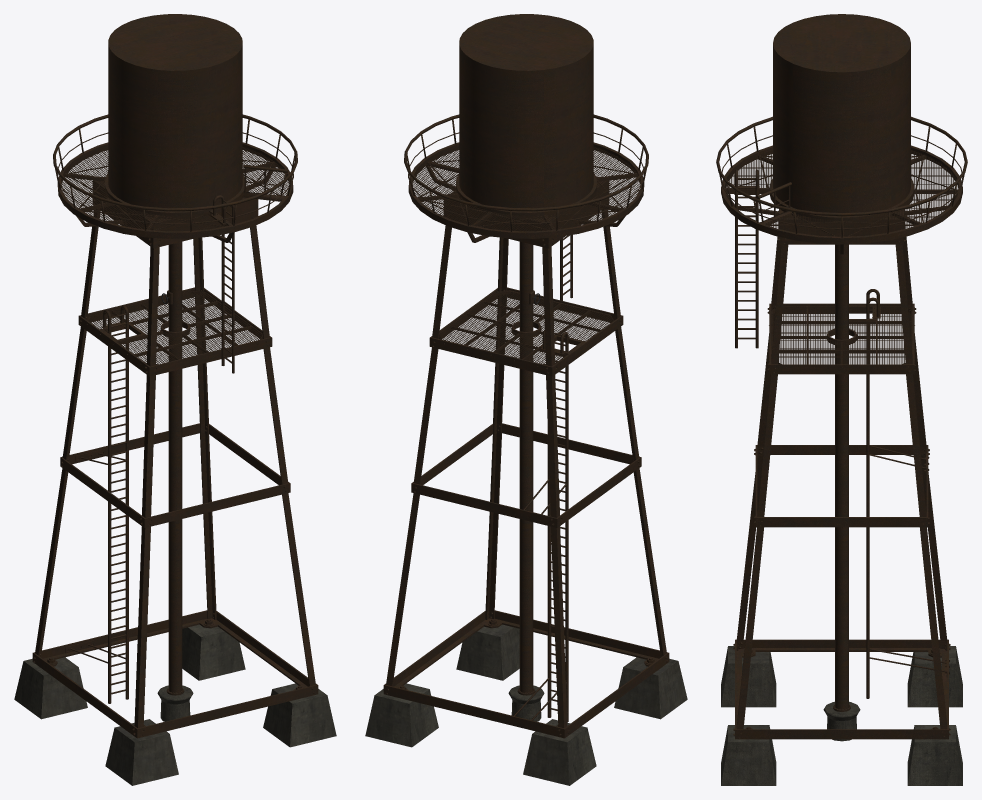
The model's file is water_tower_hm_1.glb.
3 views of the same model, side by side, from view 1: azimuth 30°, elevation 25°; view 2: azimuth 150°, elevation 25°; view 3: azimuth 270°, elevation 25° (orthographic). The views are drawn at different scales.
Visible parts, largest first — view 1: water_tower_hm_1; view 2: water_tower_hm_1; view 3: water_tower_hm_1.
Part boxes in pixels (x1,y1,x2,y2): water_tower_hm_1: [14, 14, 336, 785]; water_tower_hm_1: [365, 14, 687, 785]; water_tower_hm_1: [716, 14, 967, 785].
Size of the model in its own units: 7.29 by 22.1 by 7.29.
Materials: 4 (4 with a texture image).
